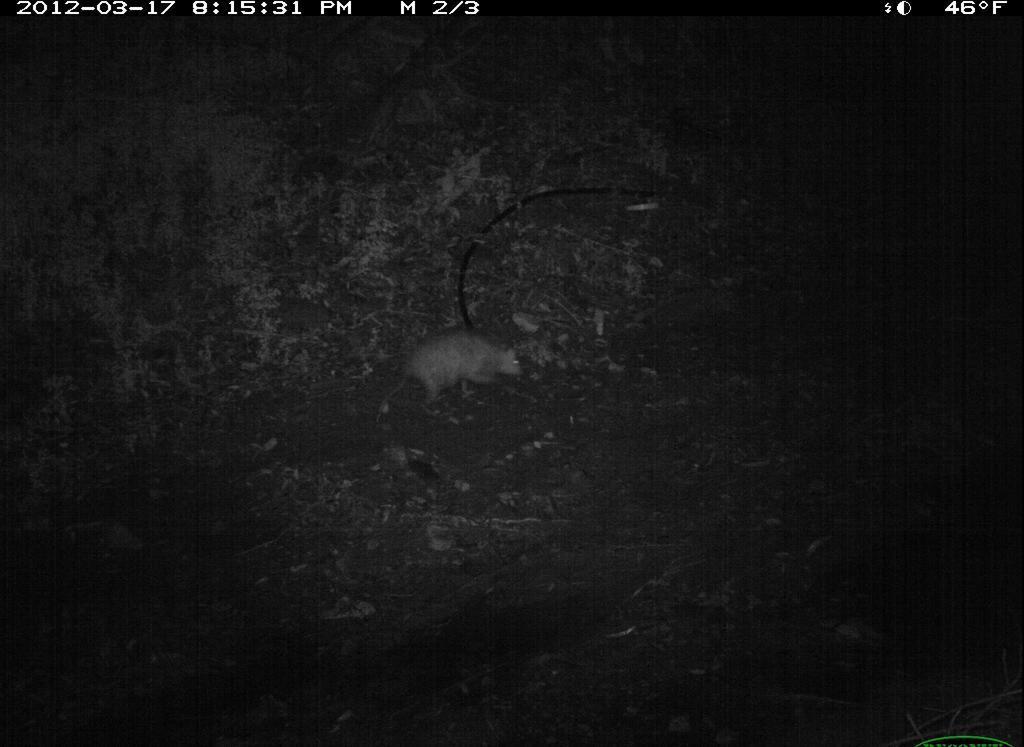opossum: (363, 318, 539, 427)
